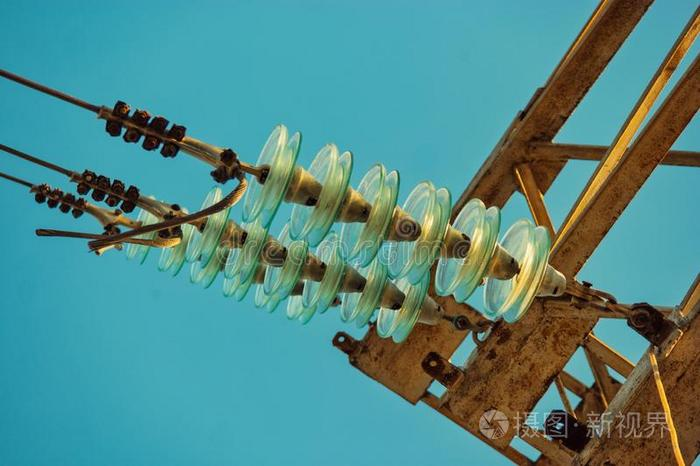insulator: (244, 121, 550, 323), (188, 185, 429, 344), (130, 219, 323, 327)
